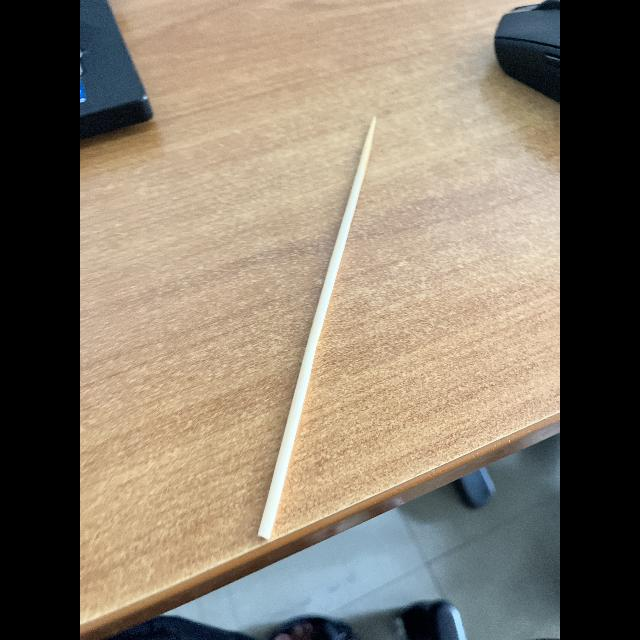stick: (230, 110, 414, 566)
